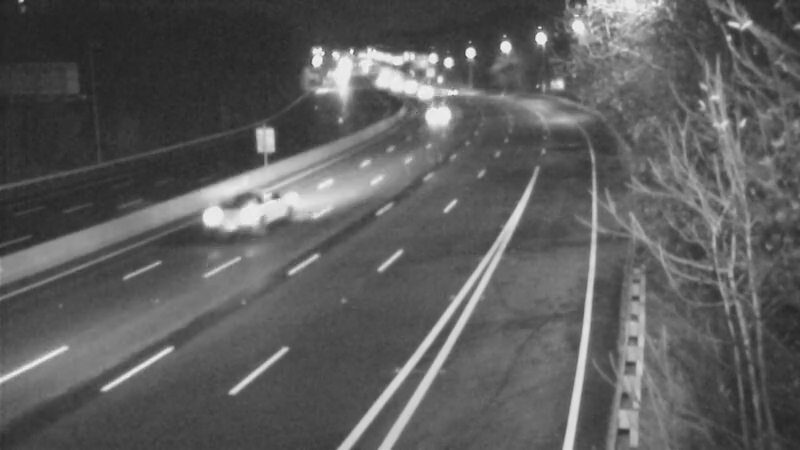vehicle: (196, 180, 276, 260), (430, 66, 480, 116), (401, 64, 451, 114), (406, 93, 456, 143)
